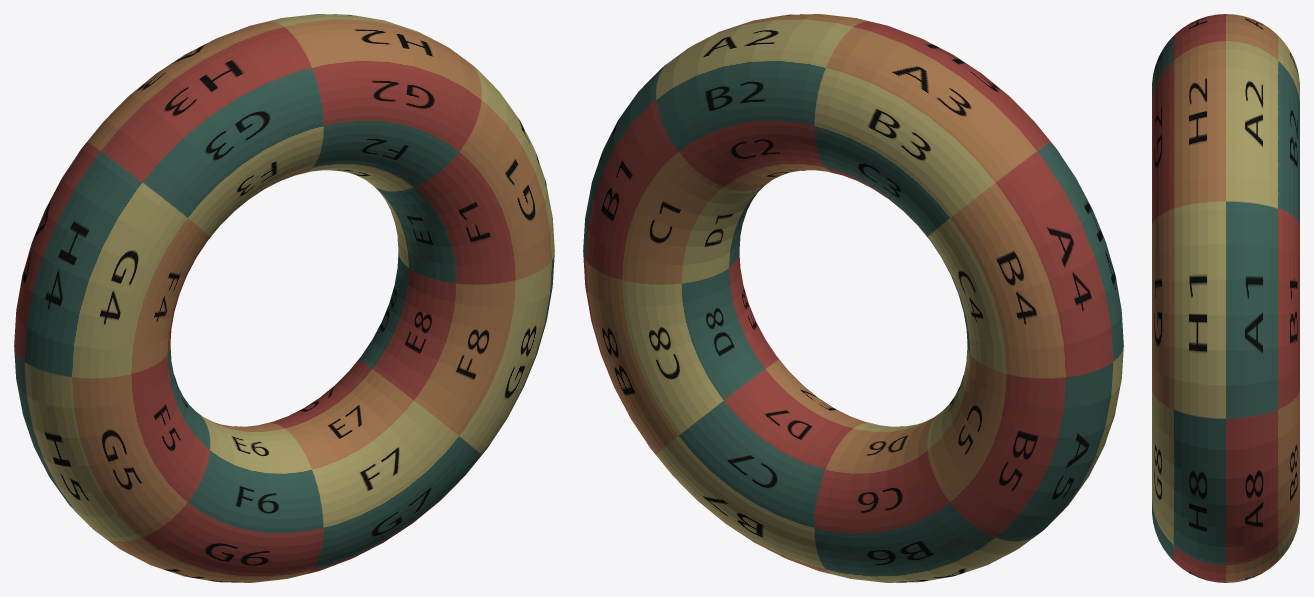
File: texture_torus_R6_r11.glb
3 views of the same model, side by side, from view 1: azimuth 30°, elevation 25°; view 2: azimuth 150°, elevation 25°; view 3: azimuth 270°, elevation 25° (orthographic). The views are drawn at different scales.
Parts seen in each view (by area): view 1: world; view 2: world; view 3: world.
Part boxes in pixels (x1=…): world: x1=14, y1=14, x2=554, y2=582; world: x1=583, y1=14, x2=1123, y2=582; world: x1=1152, y1=14, x2=1299, y2=582.
Bounding box in the file's own units: 18.93 × 18.9 × 4.92.
1 material, 1 textured.
